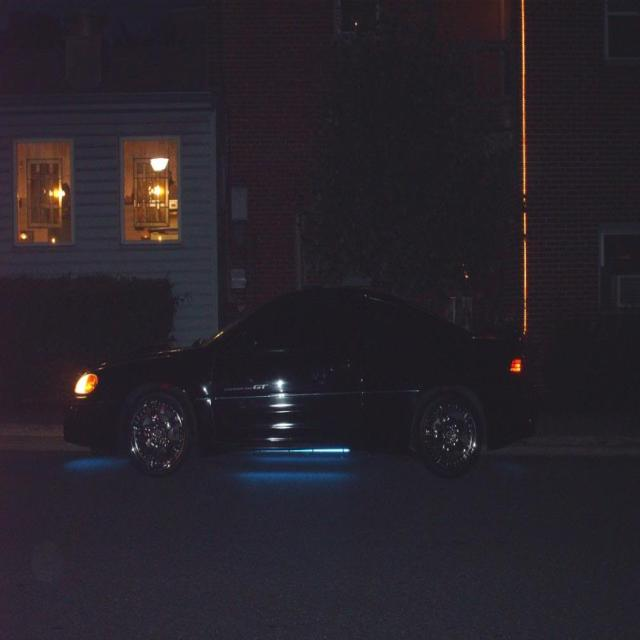Car: (47, 271, 526, 529)
